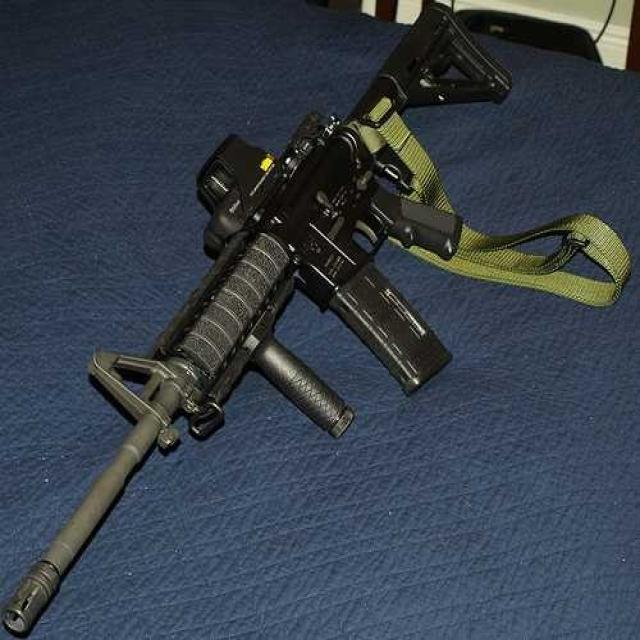heavyweapon: (1, 1, 527, 640)
